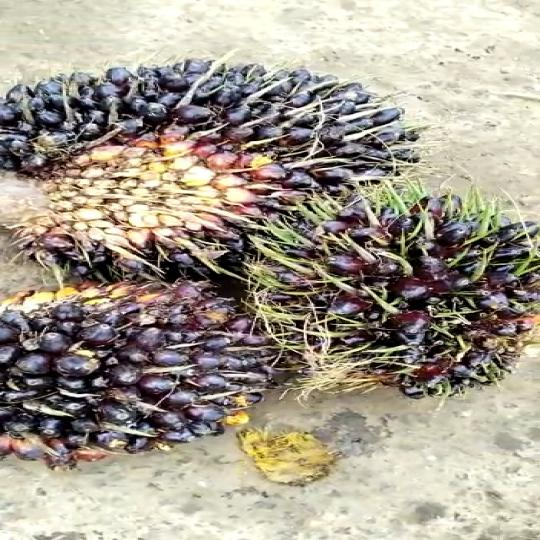mentah: (0, 58, 440, 279), (221, 198, 540, 419), (0, 266, 301, 478)
